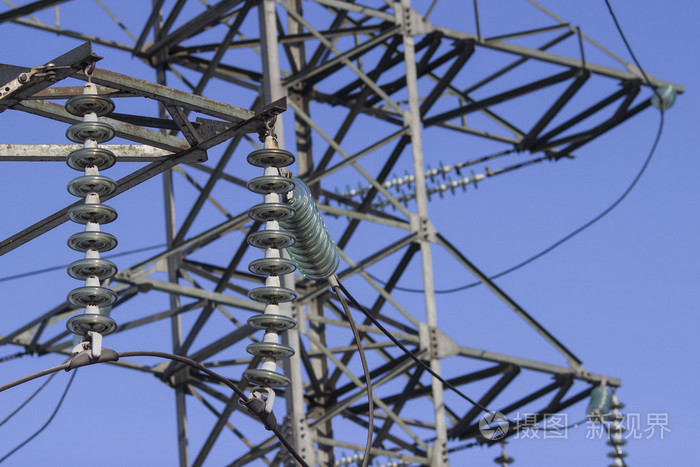insulator: (247, 146, 303, 390), (64, 96, 119, 341), (360, 164, 480, 213), (288, 181, 344, 276), (598, 399, 632, 467)
